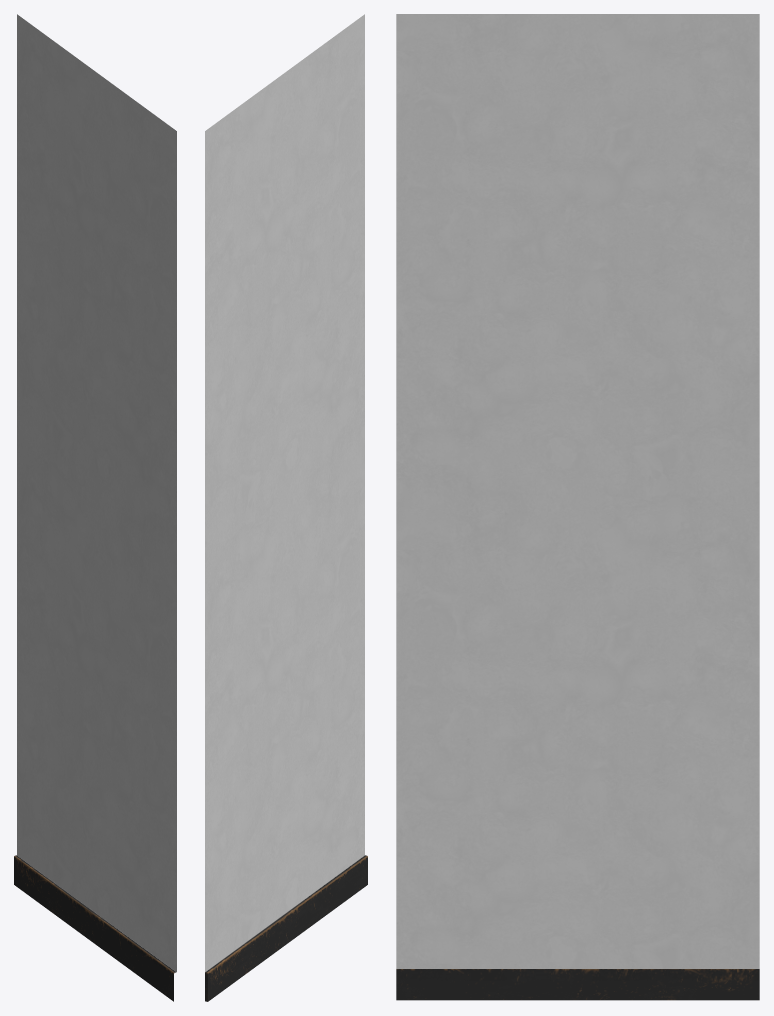
Rendered from SM_InteriorWall_01_100.fbx.
3 renders of one model, left to right at view 1: azimuth 30°, elevation 25°; view 2: azimuth 150°, elevation 25°; view 3: azimuth 270°, elevation 25°, orthographic. The views are drawn at different scales.
Visible parts, largest first — view 1: SM_InteriorWall_01_100_LOD0; view 2: SM_InteriorWall_01_100_LOD0; view 3: SM_InteriorWall_01_100_LOD0.
Part boxes in pixels (x1,y1,x2,y2): SM_InteriorWall_01_100_LOD0: [14, 14, 176, 1001]; SM_InteriorWall_01_100_LOD0: [205, 14, 367, 1001]; SM_InteriorWall_01_100_LOD0: [396, 14, 759, 1000].
Bounding box in the file's own units: 1 × 100 × 300.
